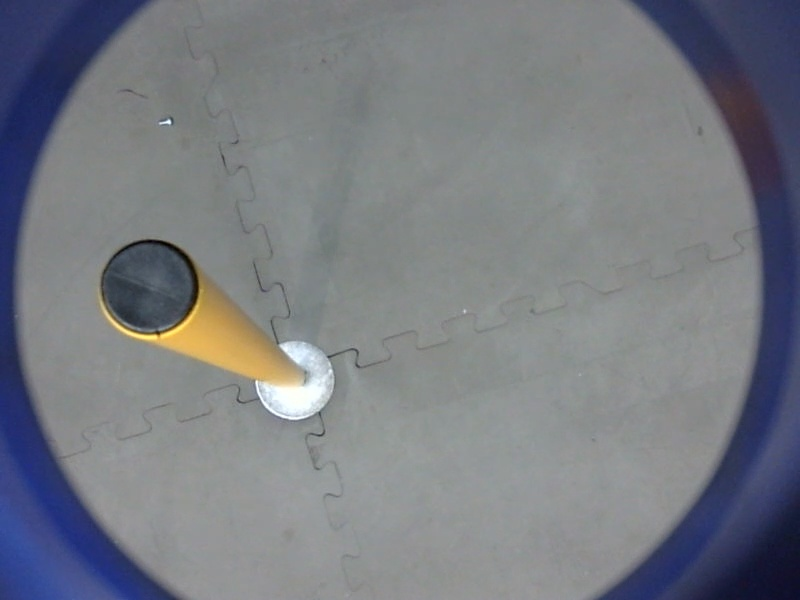tip: (93, 235, 205, 343)
